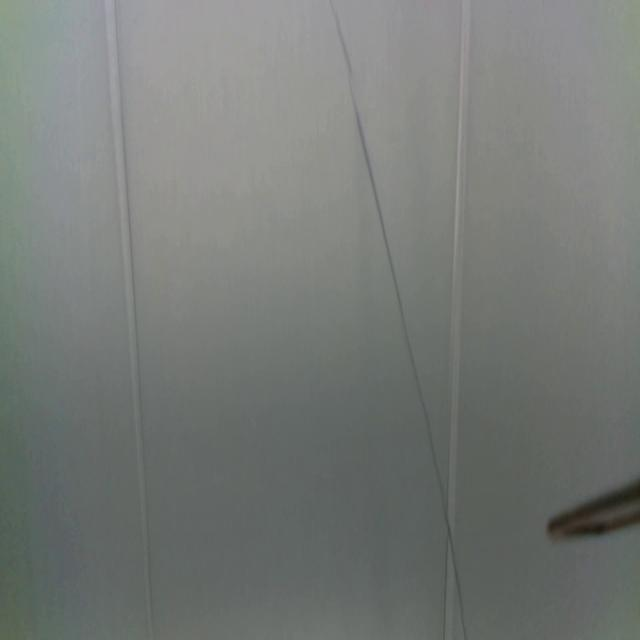crease: (325, 1, 466, 636), (106, 0, 158, 640), (441, 2, 471, 639)
